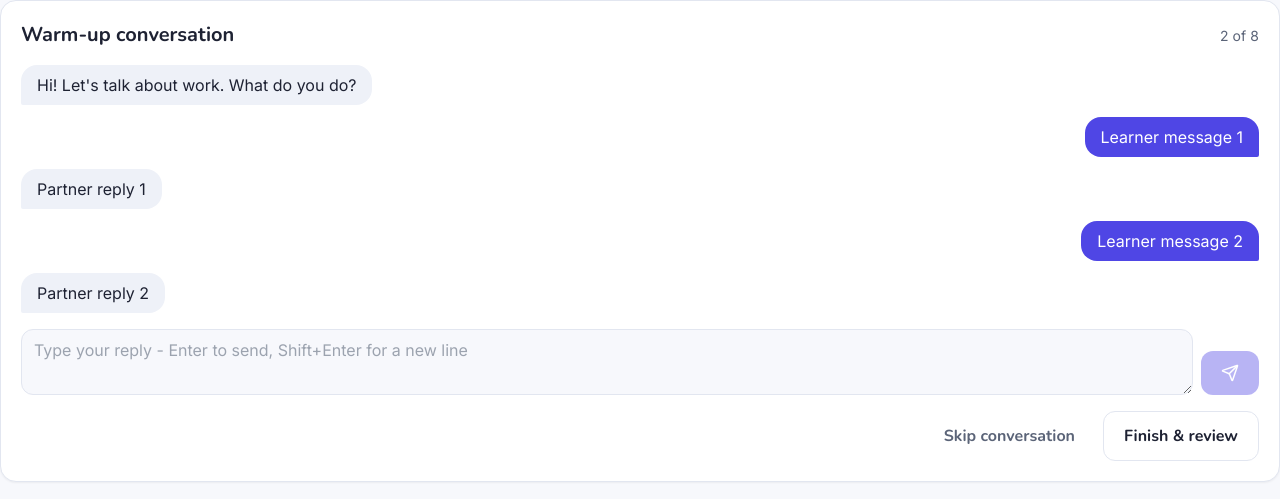
ConversationPanel › a non-502 finish failure shows the server error, not the analysis copy
Click the button "Finish & review": coordinates (1181, 436) [1103, 411, 1259, 461]
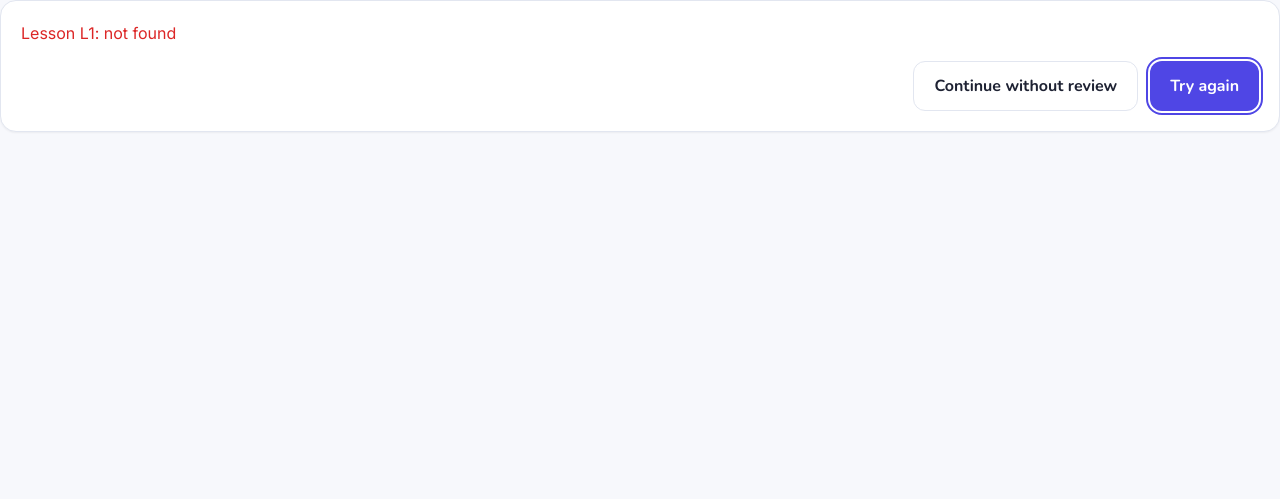
Check: the text "Lesson L1: not found" is shown, box [21, 23, 176, 43]
